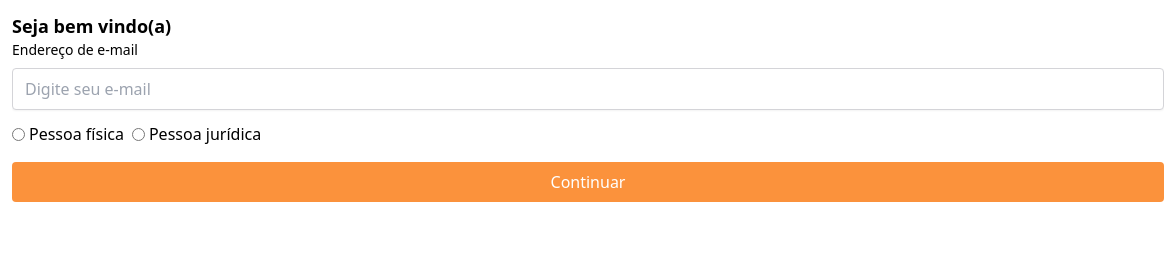
Test case: Step 1 Form › should display validation errors when email or user type is missing
The image size is (1176, 271).
Click the button "Continuar". click: (588, 182)
box: [12, 162, 1164, 202]
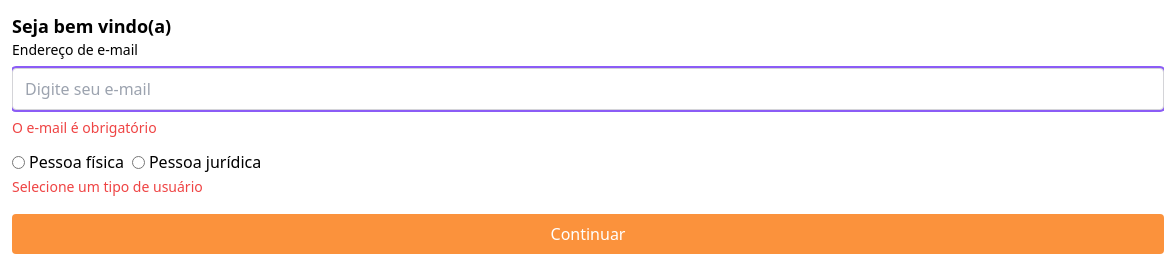
Check: the text "O e-mail é obrigatório" is shown, box [12, 118, 157, 137]
Check: the text "Selecione um tipo de usuário" is shown, box [12, 177, 203, 196]
